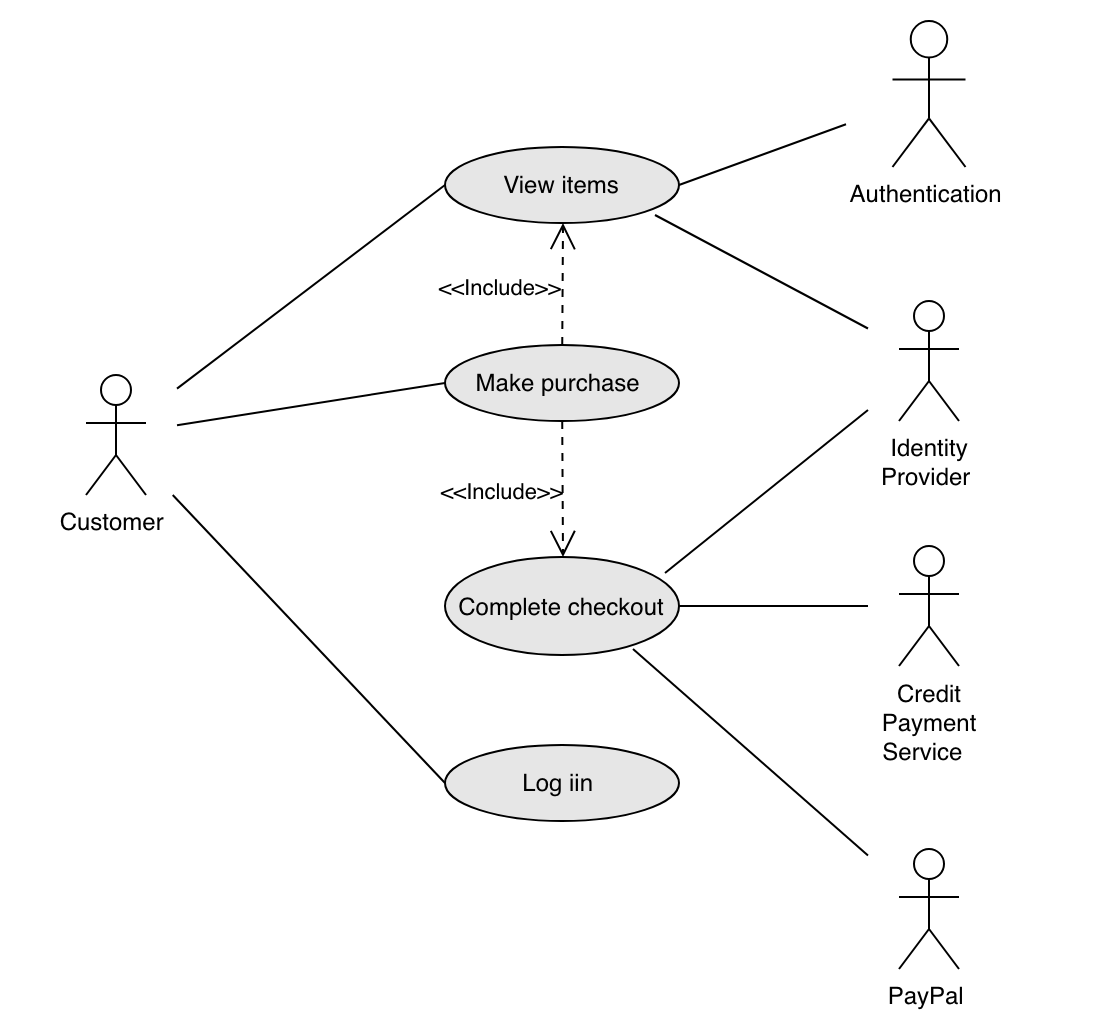actor: (889, 15, 969, 171), (80, 368, 157, 502), (897, 293, 966, 426), (897, 543, 964, 670), (899, 847, 963, 974)
association: (167, 488, 441, 783), (175, 181, 445, 397), (632, 644, 870, 858), (663, 407, 871, 576), (652, 211, 868, 332), (174, 380, 444, 430), (681, 120, 849, 189), (679, 589, 874, 619), (547, 423, 575, 555), (548, 222, 575, 345)
text: (873, 680, 981, 766), (455, 589, 665, 620), (876, 435, 974, 490), (474, 367, 641, 399), (429, 472, 561, 510), (843, 180, 1004, 211), (498, 168, 619, 205), (57, 505, 172, 540), (433, 272, 559, 303), (885, 980, 978, 1018), (523, 769, 605, 801)
use_case: (444, 555, 679, 657), (442, 144, 683, 224), (443, 343, 679, 422), (444, 746, 683, 822)
